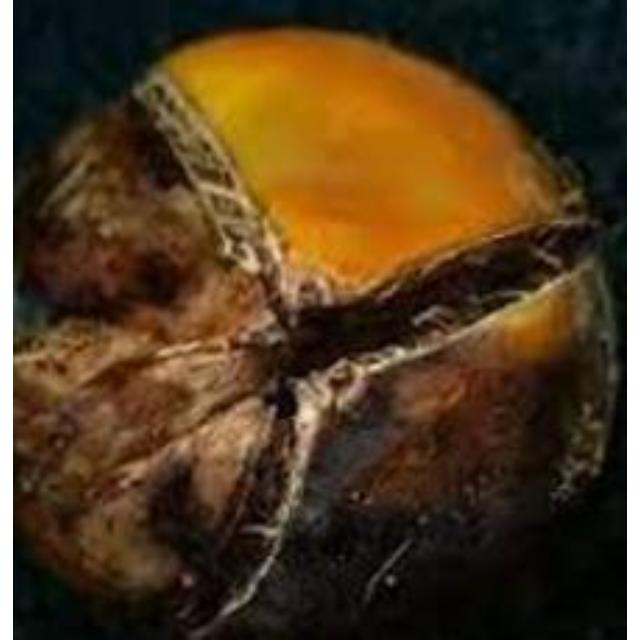damaged: (13, 31, 617, 637)
